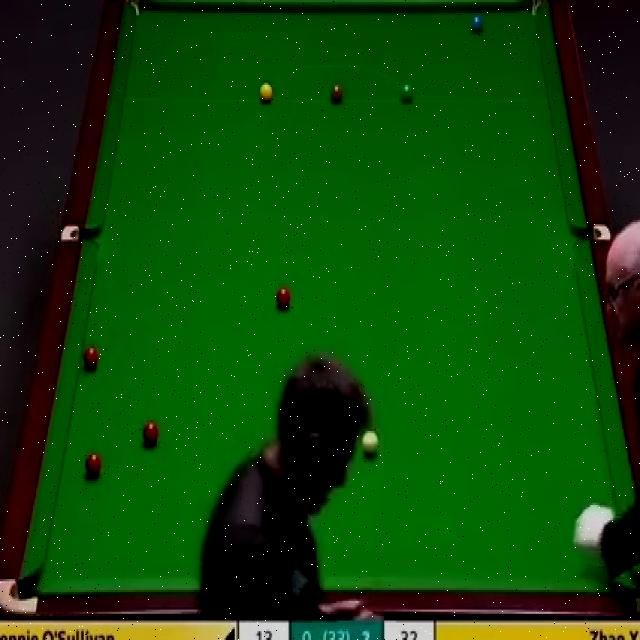blue-ball: (472, 14, 482, 37)
brown-ball: (329, 85, 344, 103)
green-ball: (399, 81, 415, 106)
red-ball: (80, 345, 100, 372), (85, 453, 102, 479), (143, 420, 159, 446), (274, 287, 291, 308)
white-ball: (362, 430, 378, 458)
yellow-ball: (258, 82, 274, 104)
